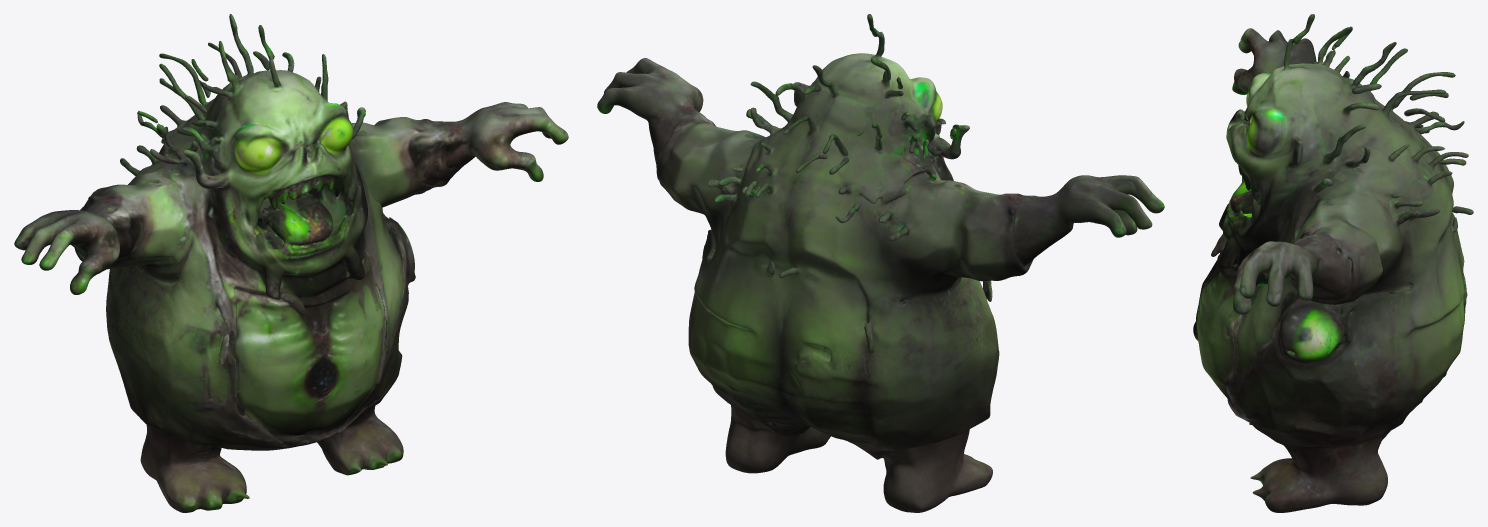
Rendered from A_bloated_eerie_huma_0226162601_texture.fbx.
3 renders of one model, left to right at view 1: azimuth 30°, elevation 25°; view 2: azimuth 150°, elevation 25°; view 3: azimuth 270°, elevation 25°, orthographic. The views are drawn at different scales.
Parts seen in each view (by area): view 1: Mesh1_Mesh1.046; view 2: Mesh1_Mesh1.046; view 3: Mesh1_Mesh1.046.
Part boxes in pixels (<box>): Mesh1_Mesh1.046: <box>14,14,568,512</box>; Mesh1_Mesh1.046: <box>597,14,1164,512</box>; Mesh1_Mesh1.046: <box>1193,14,1473,512</box>.
Bounding box in the file's own units: 199 × 160 × 91.71.
Materials: 1 (1 with a texture image).
